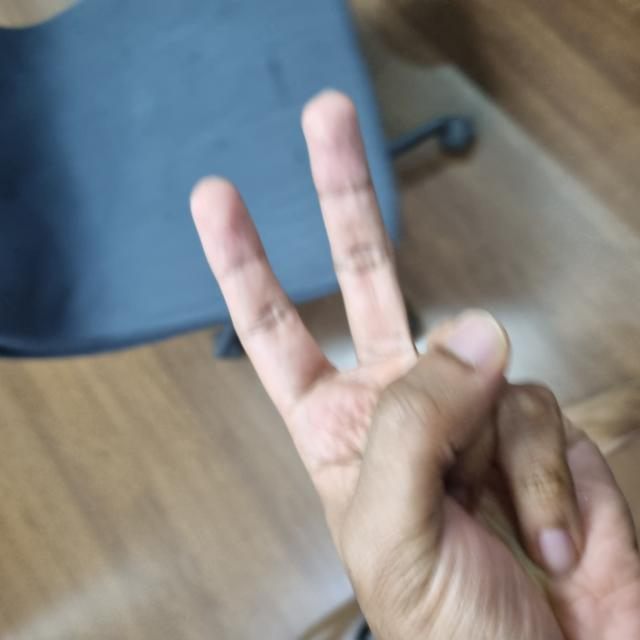Scissors: (0, 195, 547, 639)
